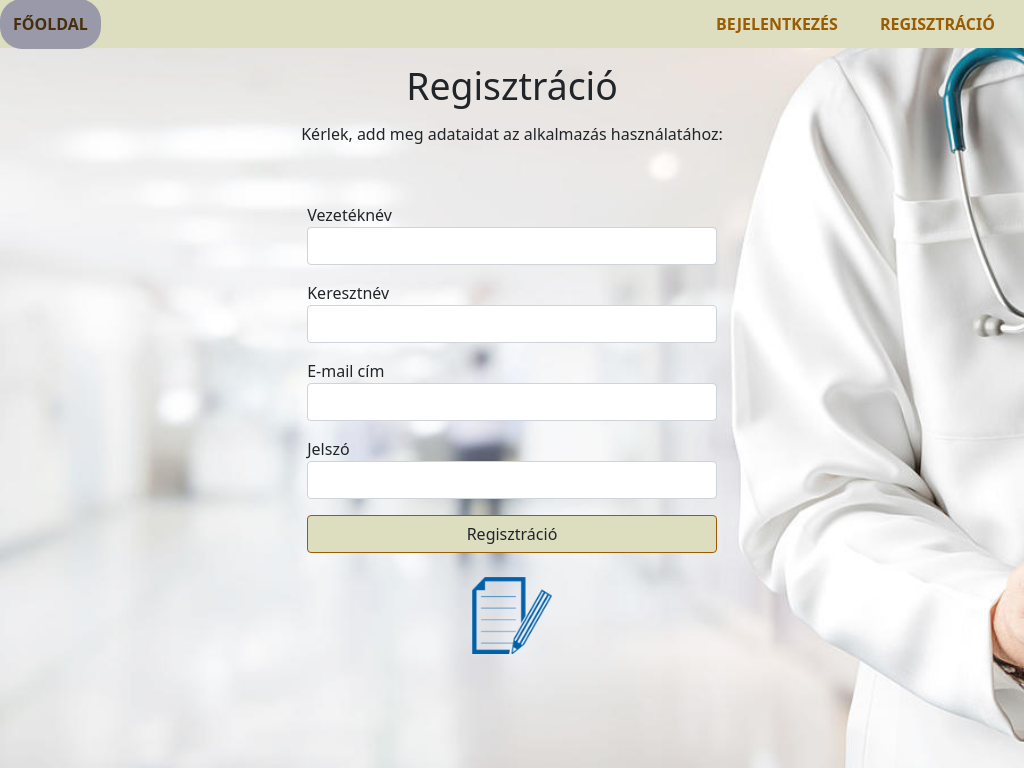
Test: Check navigate to Login page renders correctly › Back to unauthorized Home page
The image size is (1024, 768).
Click the link "Főoldal" at point(50, 24), box [0,0,101,49]
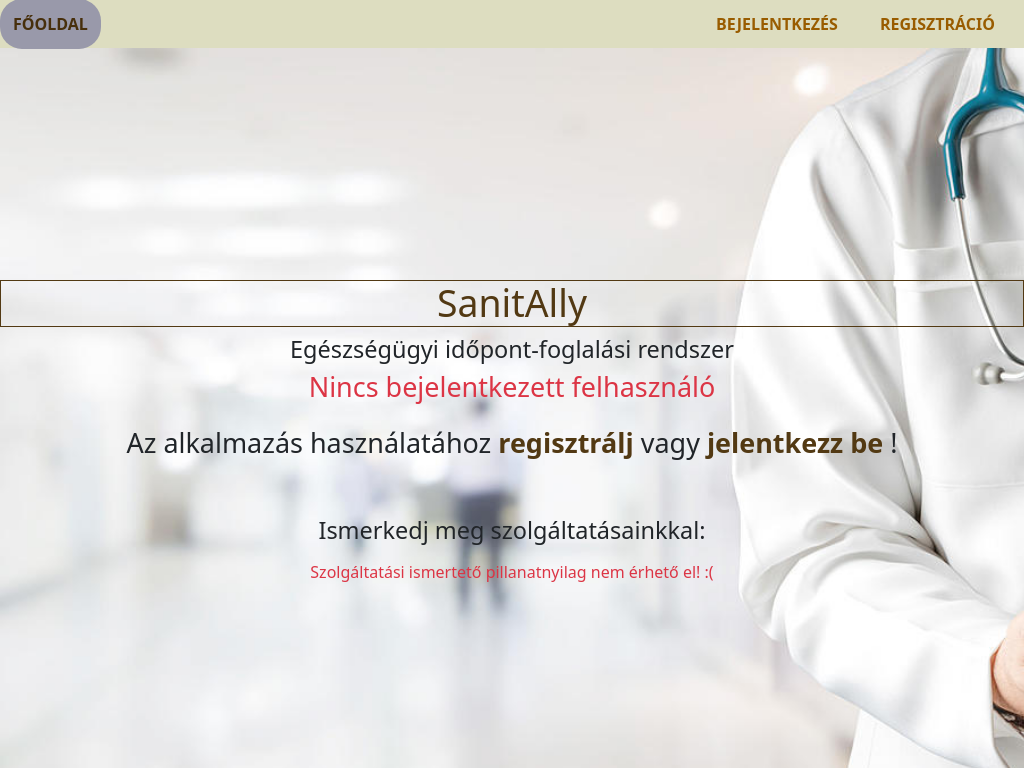
Now the heading "SanitAlly" is shown, box [0,280,1023,327]
